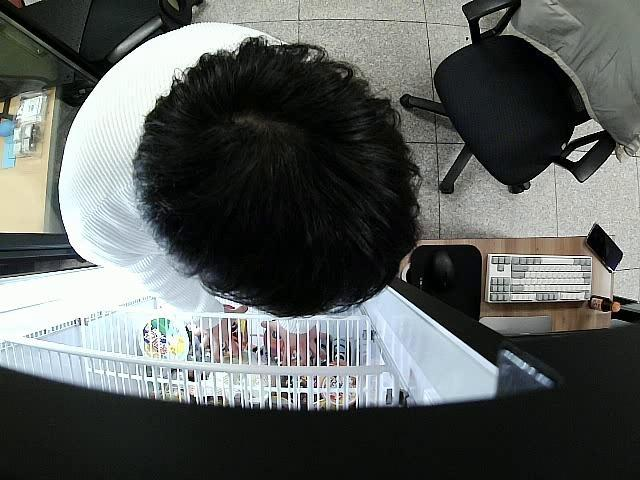05_nuguri_L: (263, 318, 310, 366), (220, 311, 248, 352)
